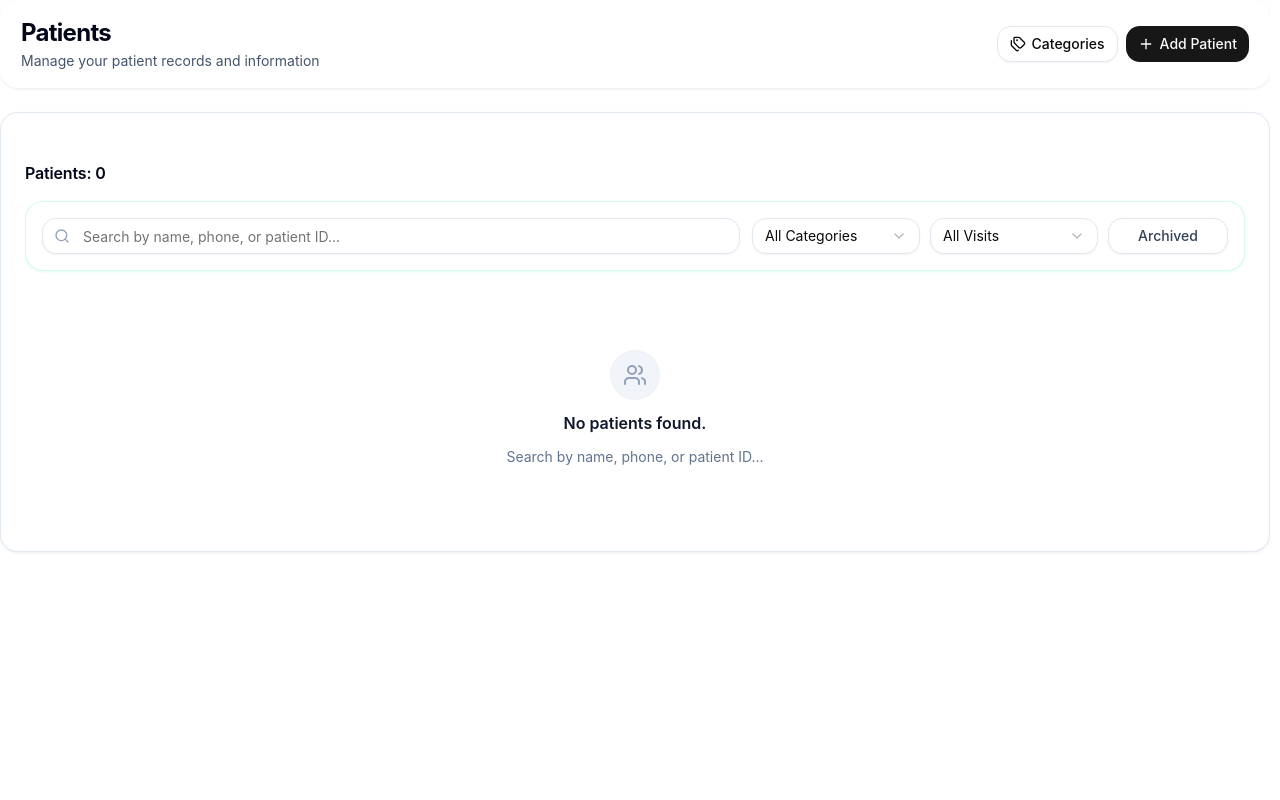
PatientsPage › clears all recent patient shortcuts from the search menu
The width and height of the screenshot is (1280, 800).
Click the field named "Search patients by name, phone, or patient ID": coordinates (391, 236) [42, 218, 740, 254]
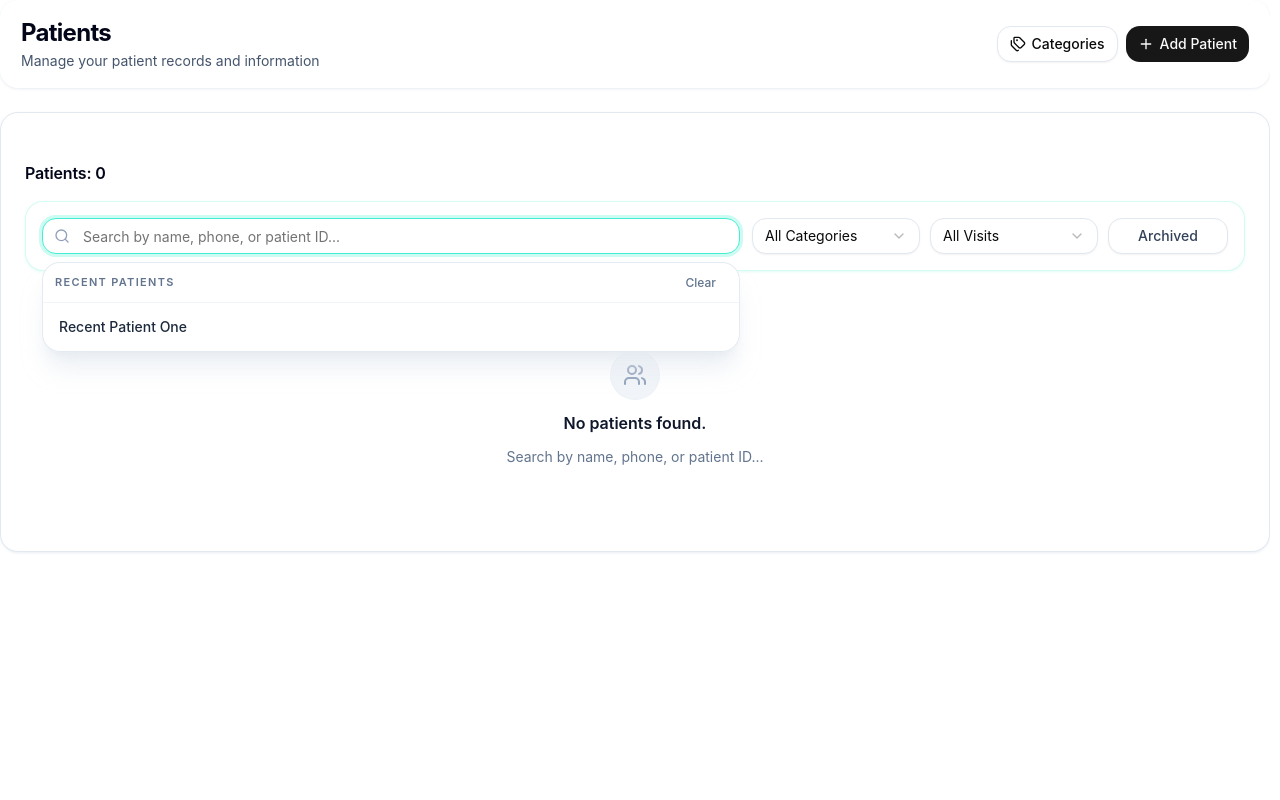
Click the button "Clear": coordinates (701, 282) [674, 268, 727, 296]
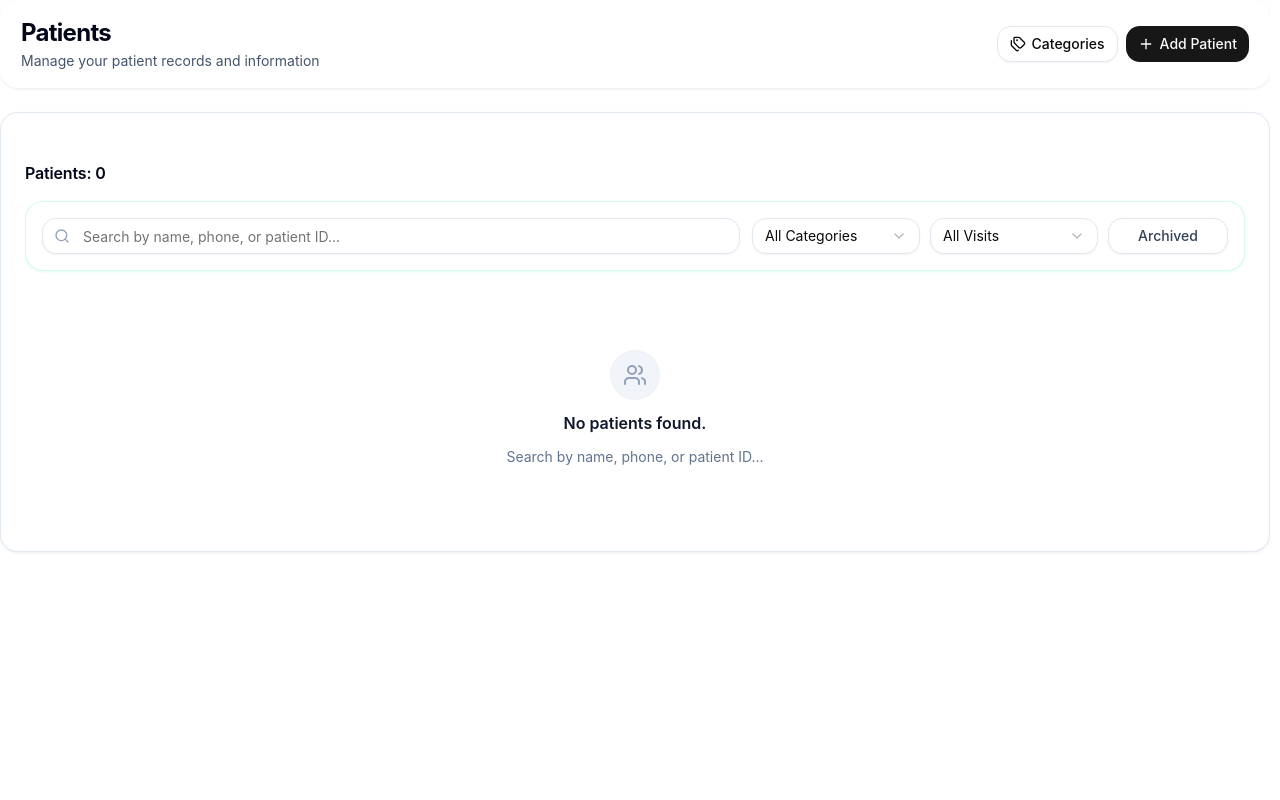
Check: the text "Recent patients" is gone
